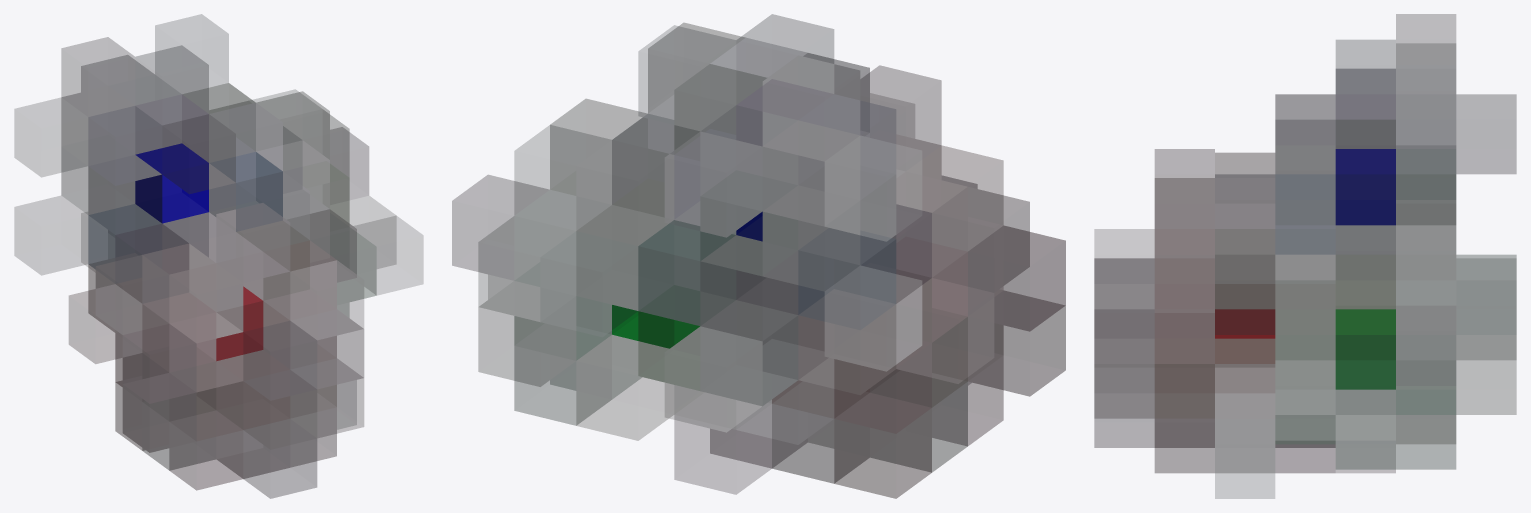
The model's file is iter_5.obj.
The picture shows the model from 3 angles, left to right: view 1: azimuth 30°, elevation 25°; view 2: azimuth 150°, elevation 25°; view 3: azimuth 270°, elevation 25°; orthographic projection. The views are drawn at different scales.
Parts seen in each view (by area): view 1: iter_5; view 2: iter_5; view 3: iter_5.
Part boxes in pixels (box(x1,y1,x2,y2)): iter_5: box(15, 14, 422, 498); iter_5: box(452, 14, 1065, 498); iter_5: box(1094, 14, 1516, 498).
Bounding box in the file's own units: 0.7 × 0.7 × 0.7.
